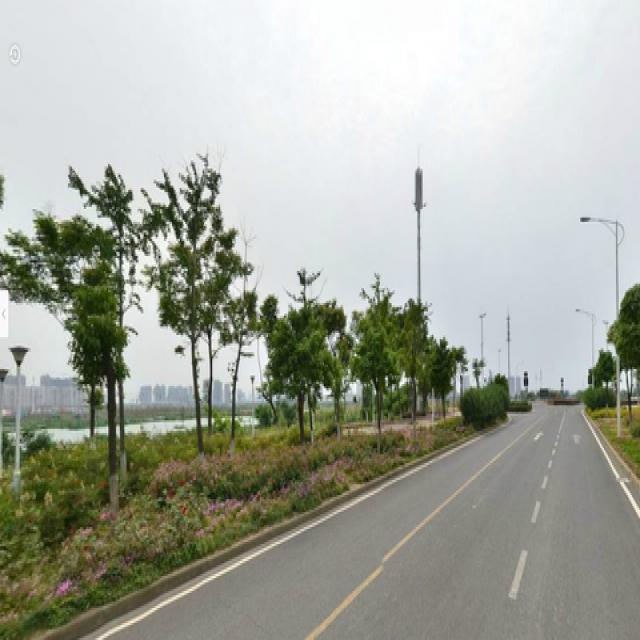cinn: (73, 284, 128, 499), (277, 318, 323, 441)
